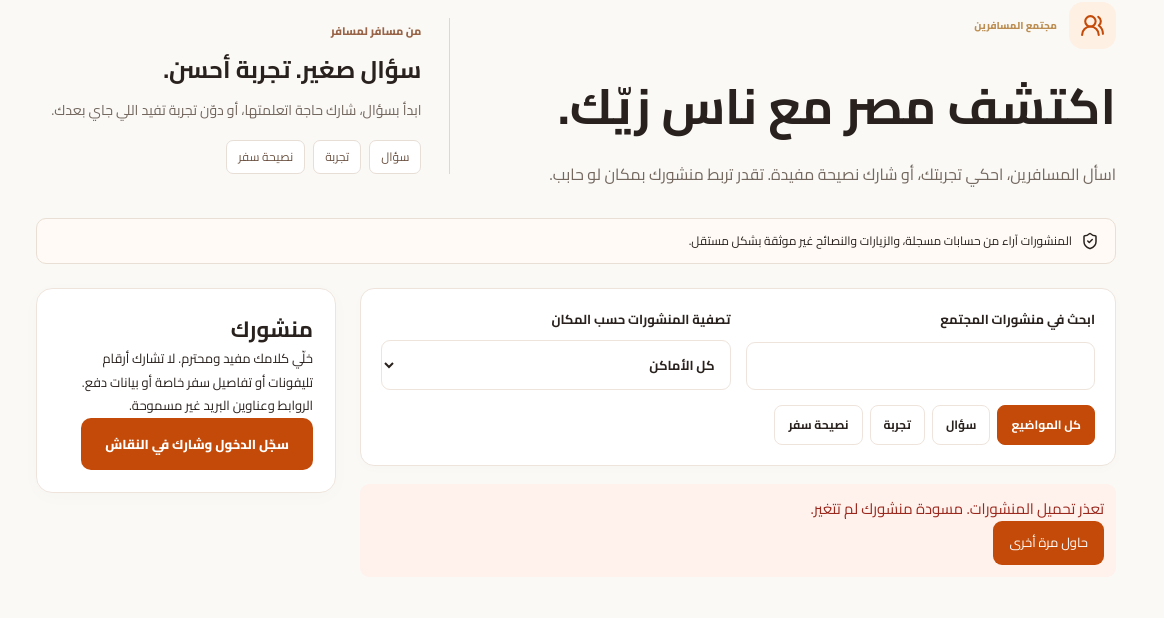
Scenario: traveler posts and existing place reviews › shows retry instead of a false empty community on failure (ar)
Expected: the heading "ابدأ أول نقاش" is not shown
Click the button "حاول مرة أخرى". click: {"x": 1049, "y": 543}
box: 993,521 -> 1104,565
(page scrolled)
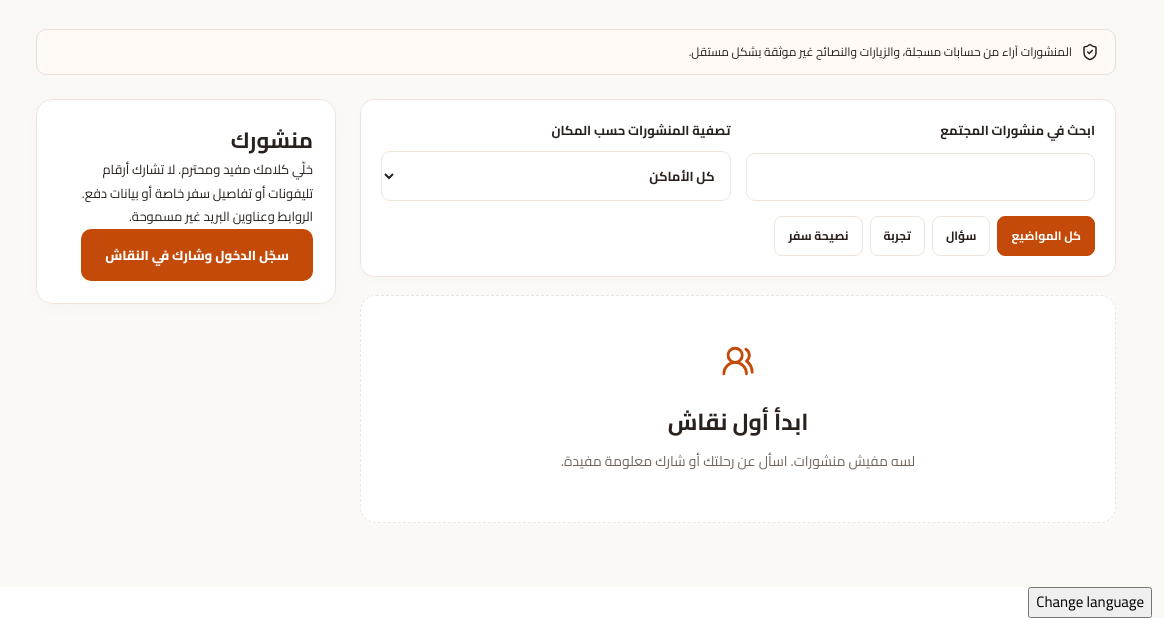
Now the heading "ابدأ أول نقاش" is shown, box 668,400 -> 808,443
